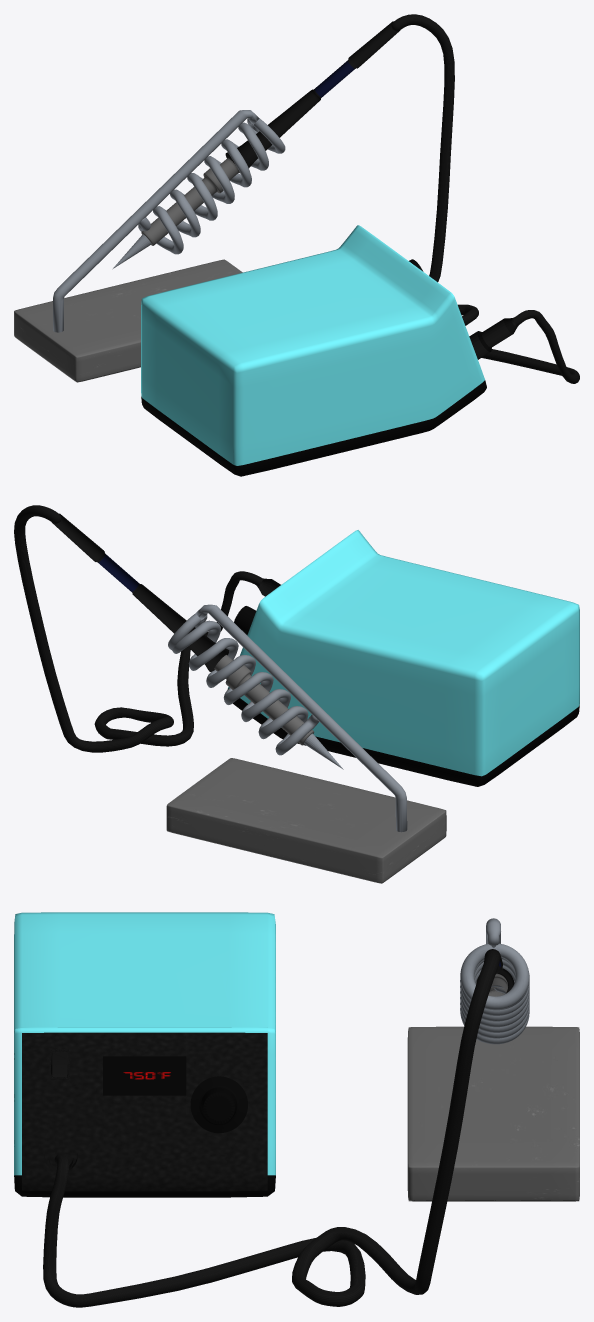
Rendered from SolderingIronV1.glb.
3 renders of one model, top to bottom at view 1: azimuth 30°, elevation 25°; view 2: azimuth 150°, elevation 25°; view 3: azimuth 270°, elevation 25°, orthographic. The views are drawn at different scales.
Parts seen in each view (by area): view 1: SolderingKit, SOLDERHOLDER, Cable, sOLDERHOLDER, Cylinder.005, sOLDERHOLDER.001, Cylinder.003; view 2: SolderingKit, SOLDERHOLDER, Cable, sOLDERHOLDER, Cylinder.005, sOLDERHOLDER.001; view 3: SolderingKit, SOLDERHOLDER, Cable, sOLDERHOLDER, Screen, TempNob, On/offButton, Cylinder.005.
Part boxes in pixels (left/top/right/bottom): SolderingKit: left=141, top=225, right=486, bottom=476; SOLDERHOLDER: left=14, top=259, right=242, bottom=382; Cable: left=391, top=14, right=579, bottom=383; sOLDERHOLDER: left=138, top=118, right=285, bottom=254; Cylinder.005: left=112, top=21, right=400, bottom=269; sOLDERHOLDER.001: left=53, top=110, right=259, bottom=332; Cylinder.003: left=469, top=317, right=518, bottom=359; SolderingKit: left=227, top=530, right=579, bottom=786; SOLDERHOLDER: left=166, top=758, right=446, bottom=883; Cable: left=14, top=505, right=264, bottom=752; sOLDERHOLDER: left=168, top=613, right=318, bottom=755; Cylinder.005: left=52, top=513, right=343, bottom=769; sOLDERHOLDER.001: left=195, top=604, right=407, bottom=832; SolderingKit: left=14, top=912, right=275, bottom=1197; SOLDERHOLDER: left=407, top=1026, right=579, bottom=1201; Cable: left=43, top=950, right=499, bottom=1307; sOLDERHOLDER: left=460, top=943, right=529, bottom=1044; Screen: left=103, top=1056, right=186, bottom=1095; TempNob: left=190, top=1076, right=247, bottom=1133; On/offButton: left=49, top=1049, right=70, bottom=1079; Cylinder.005: left=476, top=949, right=514, bottom=996.
Size of the model in its own units: 0.4966 by 0.3089 by 0.4496.
Materials: 9 (6 with a texture image).
